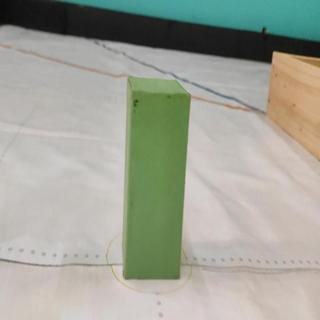greenbox: (121, 75, 191, 281)
